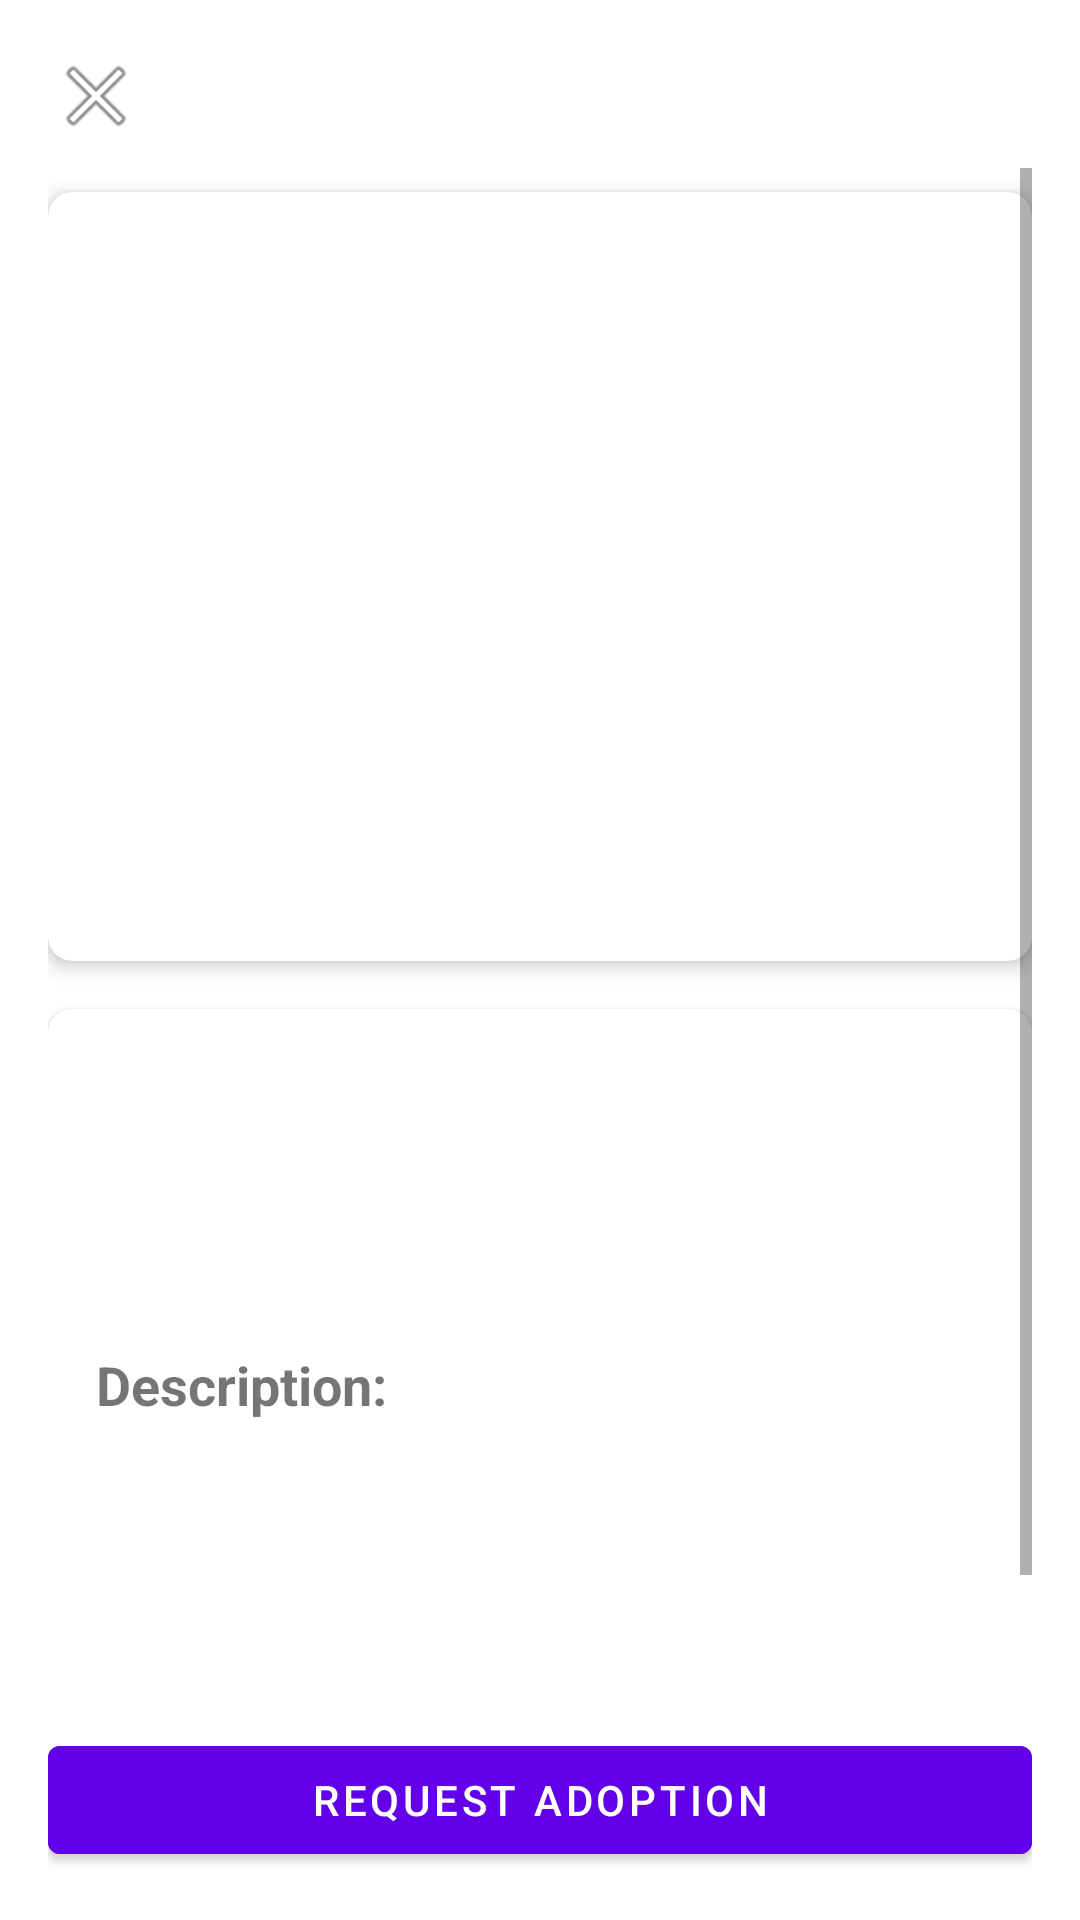

Where to tap for icons on this 1080w x 1920h app screen, as [x,y]:
Back: [96,96]
